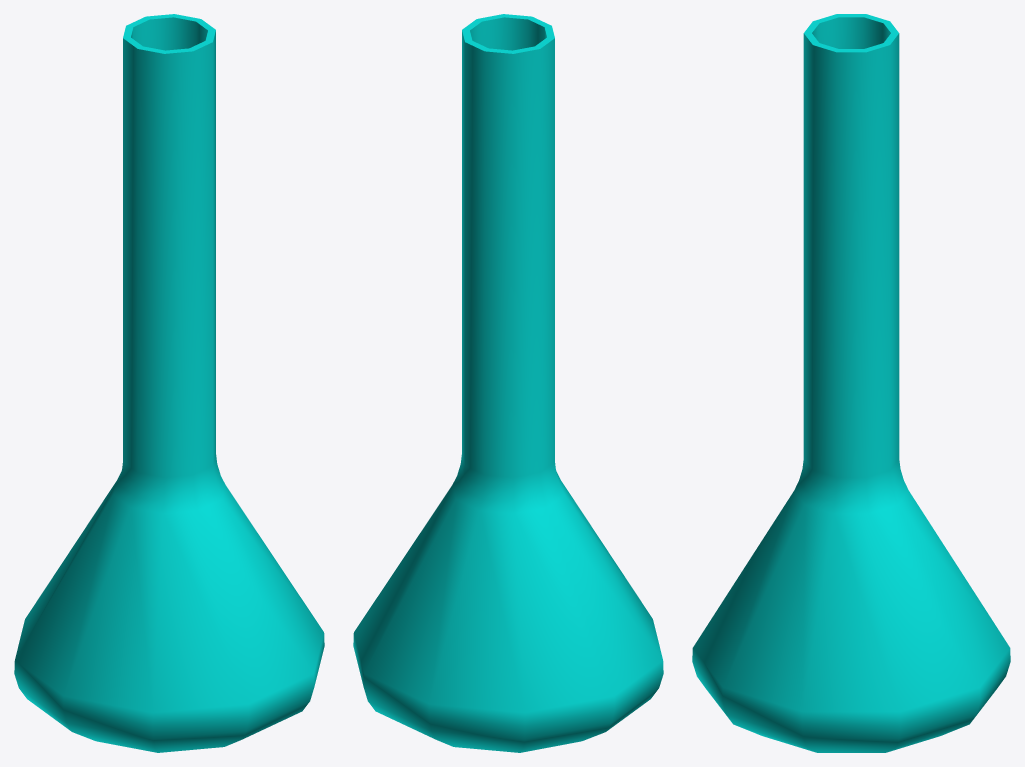
File: Beaker6.fbx
3 views of the same model, side by side, from view 1: azimuth 30°, elevation 25°; view 2: azimuth 150°, elevation 25°; view 3: azimuth 270°, elevation 25° (orthographic).
Parts seen in each view (by area): view 1: Cylinder.122; view 2: Cylinder.122; view 3: Cylinder.122.
Part boxes in pixels (<box>): Cylinder.122: <box>14,14,324,752</box>; Cylinder.122: <box>353,14,663,752</box>; Cylinder.122: <box>692,14,1010,752</box>.
Size of the model in its own units: 0.1529 by 0.3763 by 0.1608.
